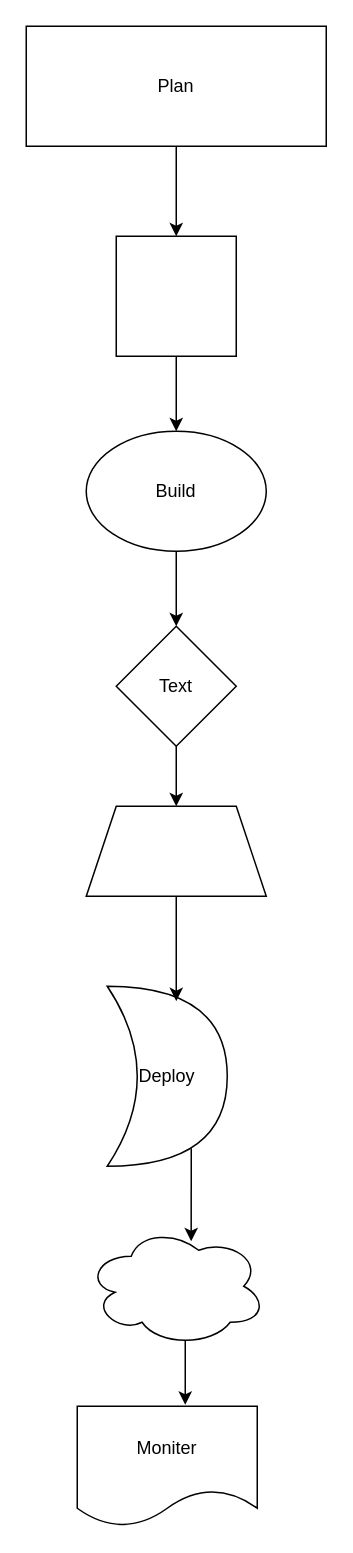
Some shapes in this 353 by 1553 pixel diagram are drawn without their labels. Each missing label, with the centre of its shape:
"Develop" goes at [175,295].
"Operate" goes at [175,1285].
"Relese" goes at [175,850].
